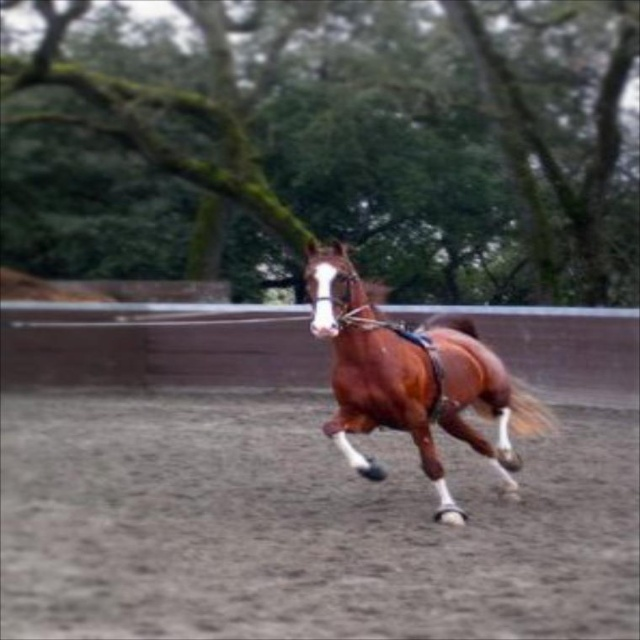Horse: (302, 236, 568, 526)
